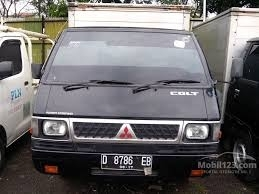plate: (101, 154, 153, 171)
